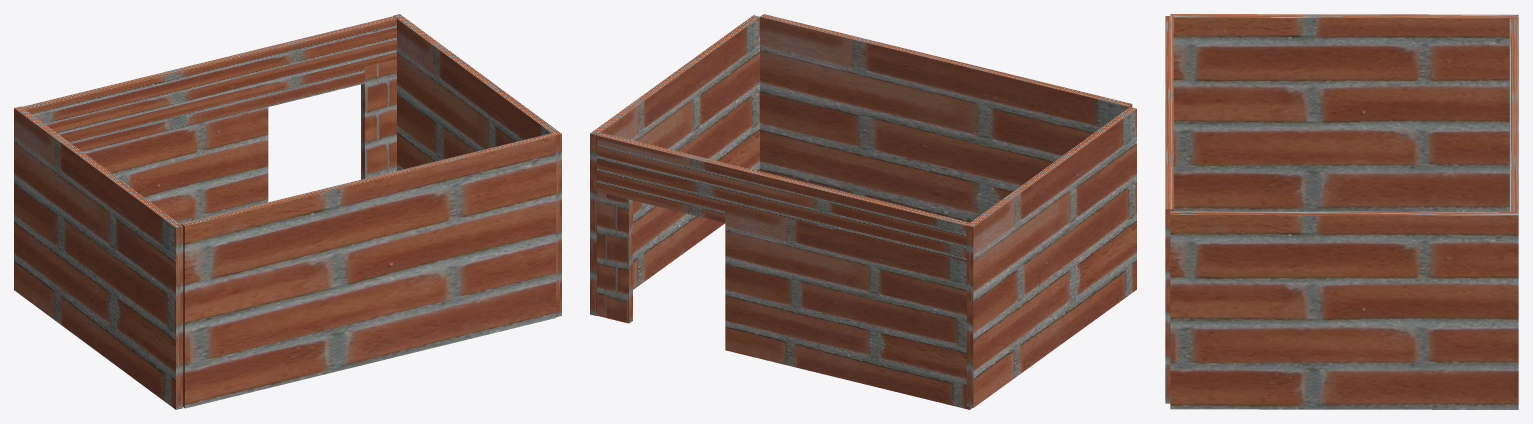
The model's file is cuarto.obj.
3 renders of one model, left to right at view 1: azimuth 30°, elevation 25°; view 2: azimuth 150°, elevation 25°; view 3: azimuth 270°, elevation 25°, orthographic. The views are drawn at different scales.
Visible parts, largest first — view 1: polySurface1 pCube5, pCube5 polySurface3, pCube5 polySurface4, pCube5 polySurface2, pCube5 polySurface6, pCube5 polySurface5; view 2: polySurface1 pCube5, pCube5 polySurface6, pCube5 polySurface3, pCube5 polySurface2, pCube5 polySurface4, pCube5 polySurface5; view 3: pCube5 polySurface2, pCube5 polySurface3, polySurface1 pCube5, pCube5 polySurface4.
Boxes of the visible parts, x1,y1,x2,y2 form: polySurface1 pCube5: [181, 133, 555, 408]; pCube5 polySurface3: [14, 106, 182, 409]; pCube5 polySurface4: [22, 16, 396, 152]; pCube5 polySurface2: [393, 14, 561, 317]; pCube5 polySurface6: [83, 107, 268, 224]; pCube5 polySurface5: [361, 59, 396, 179]; polySurface1 pCube5: [760, 14, 1132, 222]; pCube5 polySurface6: [725, 203, 972, 409]; pCube5 polySurface3: [966, 107, 1136, 407]; pCube5 polySurface2: [590, 15, 759, 315]; pCube5 polySurface4: [597, 132, 969, 261]; pCube5 polySurface5: [597, 191, 632, 323]; pCube5 polySurface2: [1170, 211, 1518, 409]; pCube5 polySurface3: [1170, 14, 1518, 211]; polySurface1 pCube5: [1165, 16, 1173, 403]; pCube5 polySurface4: [1509, 18, 1518, 211].
Size of the model in its own units: 5.44 by 2.5 by 4.03.
Materials: 1 (1 with a texture image).
